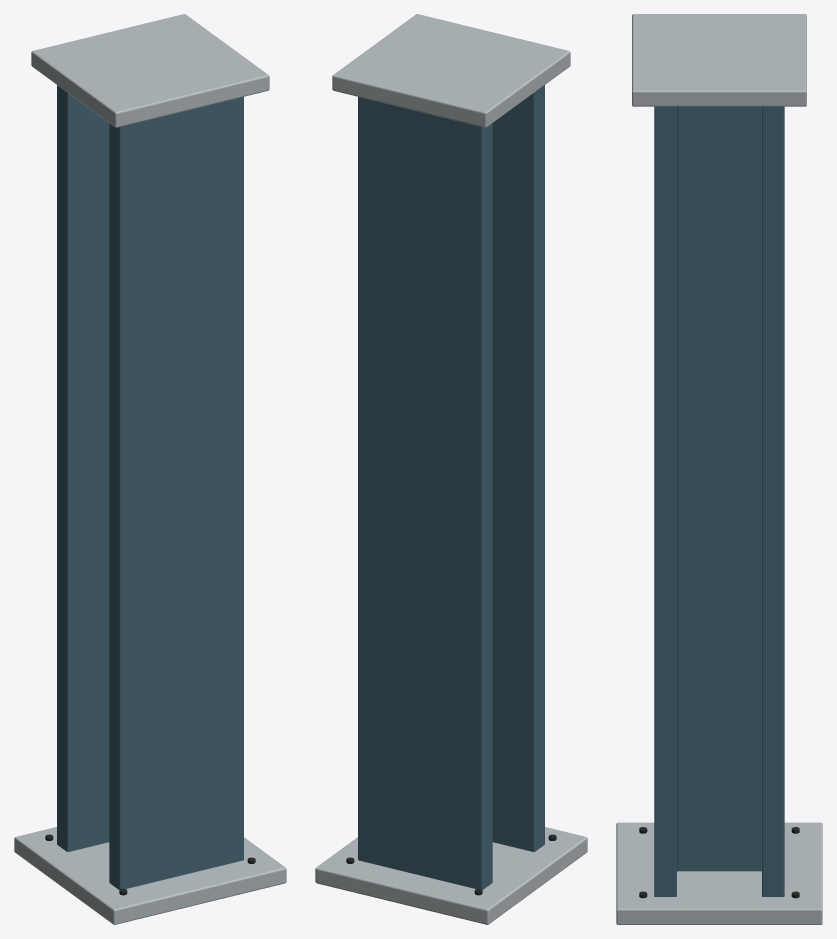
File: structural_w_column.glb
The picture shows the model from 3 angles, left to right: view 1: azimuth 30°, elevation 25°; view 2: azimuth 150°, elevation 25°; view 3: azimuth 270°, elevation 25°; orthographic projection. The views are drawn at different scales.
Visible parts, largest first — view 1: COLUMN_flange_front, COLUMN_flange_rear, CAP_plate, BASE_plate; view 2: COLUMN_flange_rear, COLUMN_flange_front, CAP_plate, BASE_plate; view 3: COLUMN_web, COLUMN_flange_front, COLUMN_flange_rear, CAP_plate, BASE_plate.
Boxes of the visible parts, bbox=[...] form: COLUMN_flange_front: bbox=[109, 97, 243, 889]; COLUMN_flange_rear: bbox=[57, 85, 109, 851]; CAP_plate: bbox=[31, 14, 269, 127]; BASE_plate: bbox=[14, 827, 286, 924]; COLUMN_flange_rear: bbox=[358, 97, 492, 889]; COLUMN_flange_front: bbox=[492, 85, 544, 851]; CAP_plate: bbox=[332, 14, 570, 127]; BASE_plate: bbox=[315, 827, 587, 924]; COLUMN_web: bbox=[677, 106, 761, 871]; COLUMN_flange_front: bbox=[654, 106, 676, 896]; COLUMN_flange_rear: bbox=[762, 106, 784, 896]; CAP_plate: bbox=[632, 14, 806, 106]; BASE_plate: bbox=[616, 822, 822, 924].
Size of the model in its own units: 0.92 by 4.08 by 0.92.
